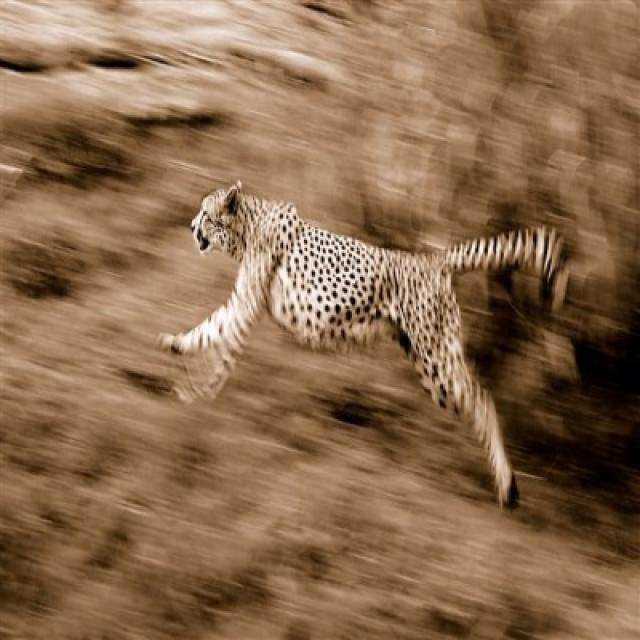Cheetah: (157, 183, 562, 500)
